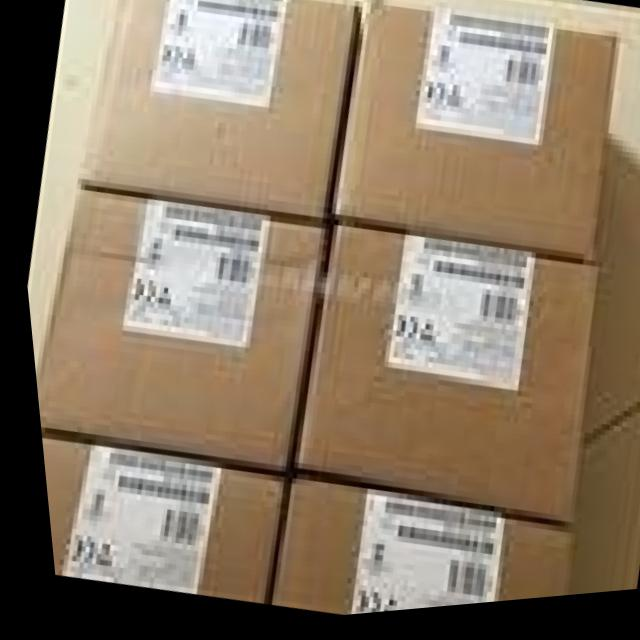box: (288, 219, 595, 533), (28, 190, 323, 477), (330, 9, 614, 266), (72, 0, 362, 223), (32, 428, 278, 608), (262, 482, 565, 620)
